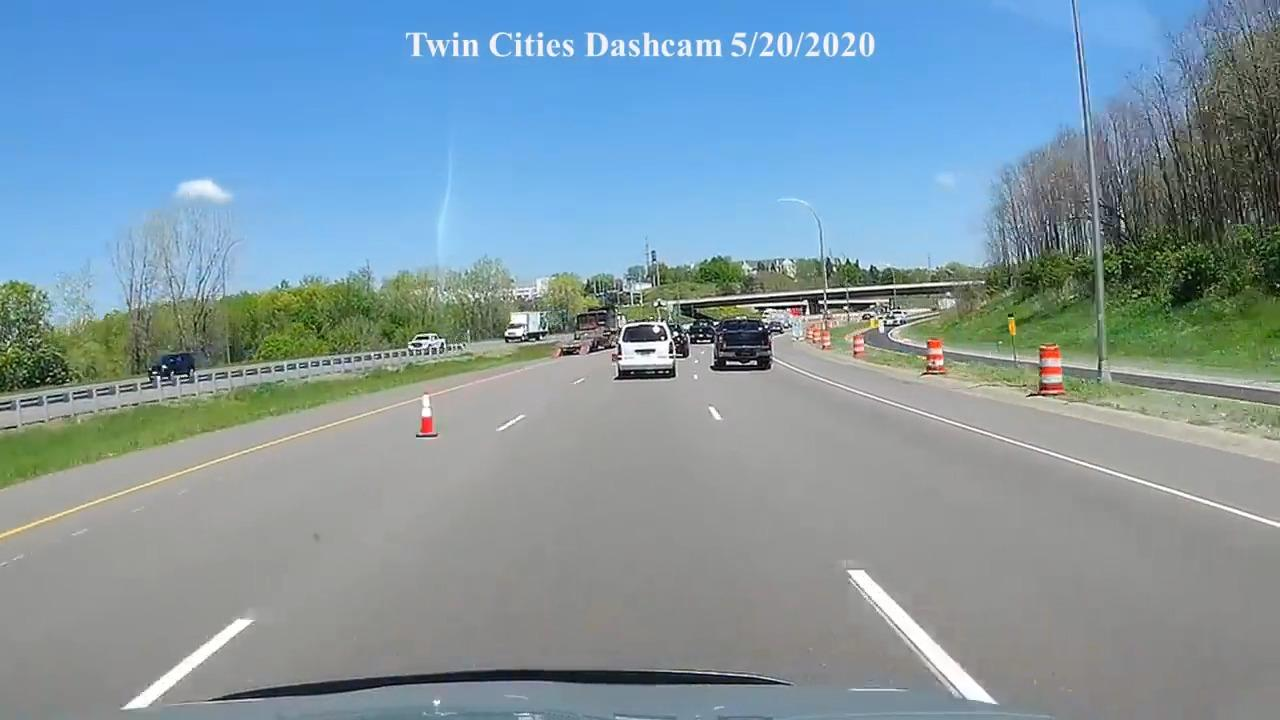car: (611, 321, 678, 380), (711, 318, 773, 371), (148, 352, 196, 381), (408, 332, 447, 355)
traffic cone: (1027, 344, 1067, 398), (415, 394, 440, 440), (919, 339, 949, 376), (852, 332, 866, 358)
